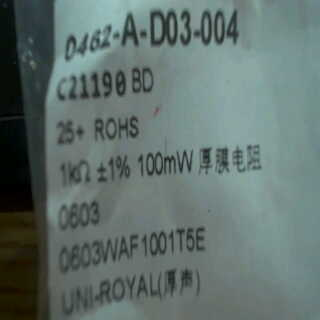1kR: (57, 155, 94, 189)
